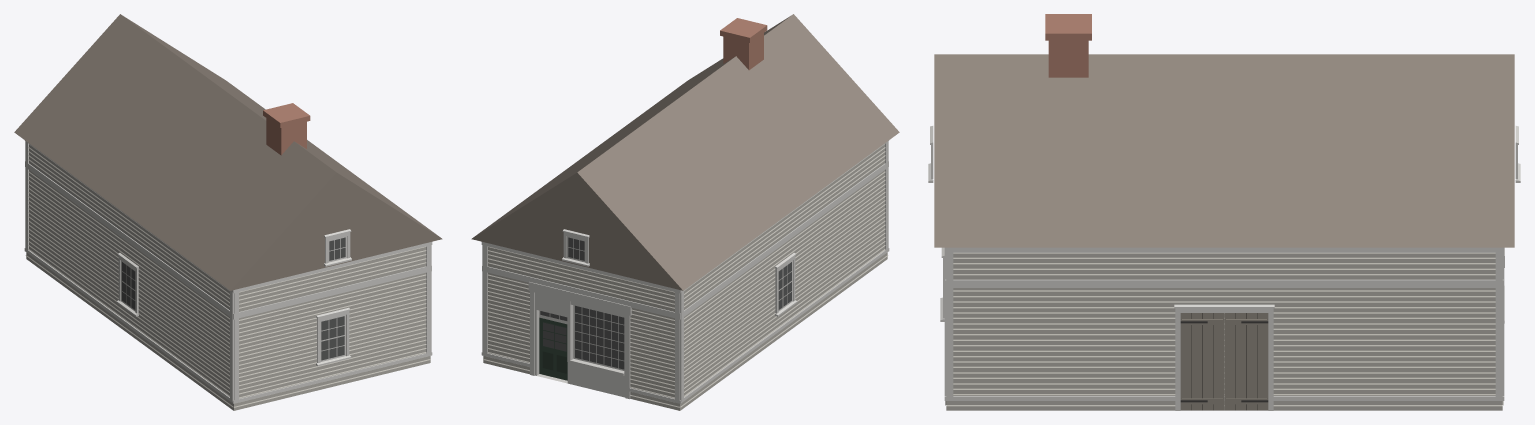
The model's file is recon_1835_core_c2_049__inferred_1835.glb.
3 views of the same model, side by side, from view 1: azimuth 30°, elevation 25°; view 2: azimuth 150°, elevation 25°; view 3: azimuth 270°, elevation 25° (orthographic). The views are drawn at different scales.
Parts seen in each view (by area): view 1: recon_1835_core_c2_049__inferred_1835; view 2: recon_1835_core_c2_049__inferred_1835; view 3: recon_1835_core_c2_049__inferred_1835.
Part boxes in pixels (bbox=[...]): recon_1835_core_c2_049__inferred_1835: bbox=[14, 14, 442, 410]; recon_1835_core_c2_049__inferred_1835: bbox=[471, 14, 899, 410]; recon_1835_core_c2_049__inferred_1835: bbox=[928, 14, 1520, 410].
Bounding box in the file's own units: 6.93 × 7.5 × 12.49.
